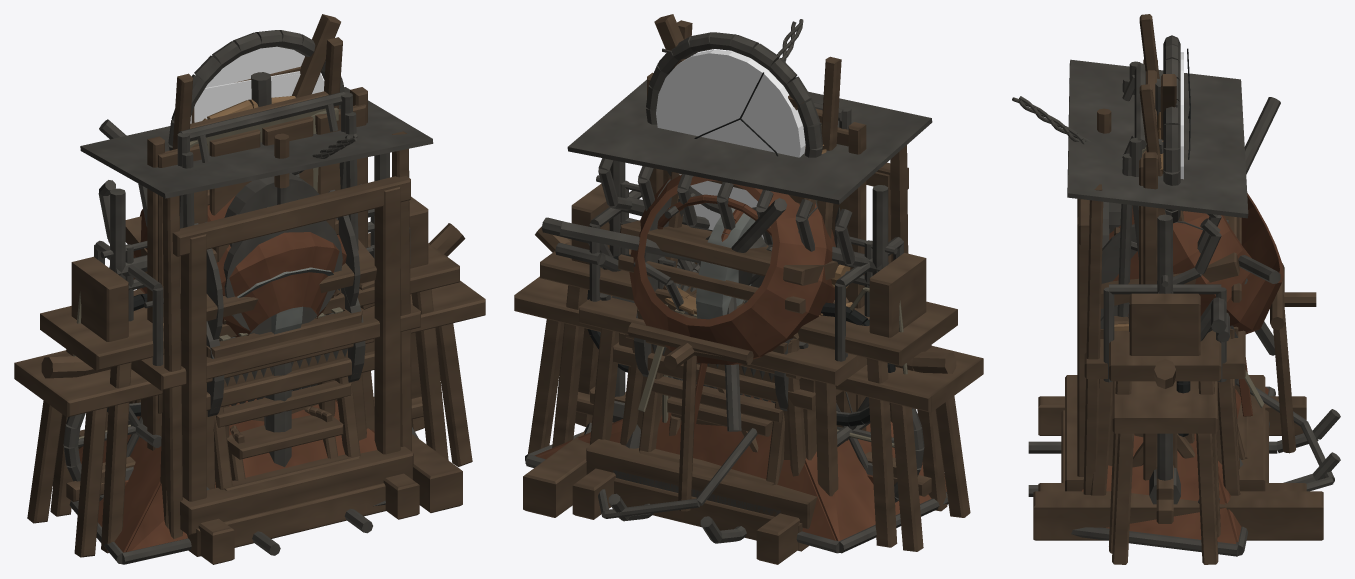
Rendered from VillageNarrative3D.fbx.
The picture shows the model from 3 angles, left to right: view 1: azimuth 30°, elevation 25°; view 2: azimuth 150°, elevation 25°; view 3: azimuth 270°, elevation 25°; orthographic projection. The views are drawn at different scales.
Parts seen in each view (by area): view 1: GEO_N25_Wood, GEO_N06_Wood, GEO_N19_Wood, GEO_N13_Wood, GEO_N13_Iron, GEO_N29_Wood, GEO_N07_Wood, GEO_N30_Rust, GEO_N22_Rust, GEO_N05_Wood, GEO_N12_Wood, GEO_N10_Iron (+23 smaller); view 2: GEO_N06_Wood, GEO_N19_Wood, GEO_N13_Iron, GEO_N30_Rust, GEO_N32_Glass, GEO_N29_Wood, GEO_N22_Rust, GEO_N05_Wood, GEO_N18_Iron, GEO_N15_Wood, GEO_N12_Wood, GEO_N32_Iron (+24 smaller); view 3: GEO_N13_Iron, GEO_N19_Wood, GEO_N06_Wood, GEO_N31_Wood, GEO_N30_Rust, GEO_N29_Wood, GEO_N05_Wood, GEO_N13_Wood, GEO_N22_Rust, GEO_N18_Iron, GEO_N25_Wood, GEO_N10_Iron (+17 smaller).
Part boxes in pixels (x1=…): GEO_N25_Wood: x1=172, y1=176, x2=410, y2=556; GEO_N06_Wood: x1=40, y1=196, x2=459, y2=553; GEO_N19_Wood: x1=14, y1=223, x2=485, y2=557; GEO_N13_Wood: x1=129, y1=131, x2=411, y2=538; GEO_N13_Iron: x1=80, y1=87, x2=433, y2=198; GEO_N29_Wood: x1=78, y1=398, x2=419, y2=564; GEO_N07_Wood: x1=147, y1=87, x2=367, y2=450; GEO_N30_Rust: x1=133, y1=196, x2=346, y2=337; GEO_N22_Rust: x1=78, y1=389, x2=377, y2=552; GEO_N05_Wood: x1=105, y1=280, x2=420, y2=528; GEO_N12_Wood: x1=207, y1=189, x2=360, y2=490; GEO_N10_Iron: x1=177, y1=92, x2=358, y2=250; GEO_N06_Wood: x1=540, y1=183, x2=957, y2=547; GEO_N19_Wood: x1=514, y1=226, x2=983, y2=551; GEO_N13_Iron: x1=567, y1=79, x2=932, y2=378; GEO_N30_Rust: x1=629, y1=175, x2=835, y2=365; GEO_N32_Glass: x1=656, y1=49, x2=805, y2=207; GEO_N29_Wood: x1=572, y1=391, x2=855, y2=564; GEO_N22_Rust: x1=534, y1=394, x2=946, y2=541; GEO_N05_Wood: x1=579, y1=285, x2=892, y2=496; GEO_N18_Iron: x1=598, y1=158, x2=888, y2=475; GEO_N15_Wood: x1=618, y1=220, x2=839, y2=452; GEO_N12_Wood: x1=639, y1=172, x2=815, y2=485; GEO_N32_Iron: x1=646, y1=32, x2=822, y2=213; GEO_N13_Iron: x1=1067, y1=59, x2=1248, y2=218; GEO_N19_Wood: x1=1112, y1=359, x2=1218, y2=564; GEO_N06_Wood: x1=1109, y1=293, x2=1221, y2=553; GEO_N31_Wood: x1=1033, y1=491, x2=1323, y2=540; GEO_N30_Rust: x1=1109, y1=193, x2=1283, y2=334; GEO_N29_Wood: x1=1038, y1=375, x2=1306, y2=491; GEO_N05_Wood: x1=1084, y1=316, x2=1245, y2=495; GEO_N13_Wood: x1=1083, y1=184, x2=1234, y2=494; GEO_N22_Rust: x1=1082, y1=387, x2=1268, y2=543; GEO_N18_Iron: x1=1149, y1=213, x2=1221, y2=504; GEO_N25_Wood: x1=1061, y1=198, x2=1268, y2=482; GEO_N10_Iron: x1=1117, y1=61, x2=1146, y2=316.
Size of the model in its own units: 1.92 by 1.98 by 1.35.
